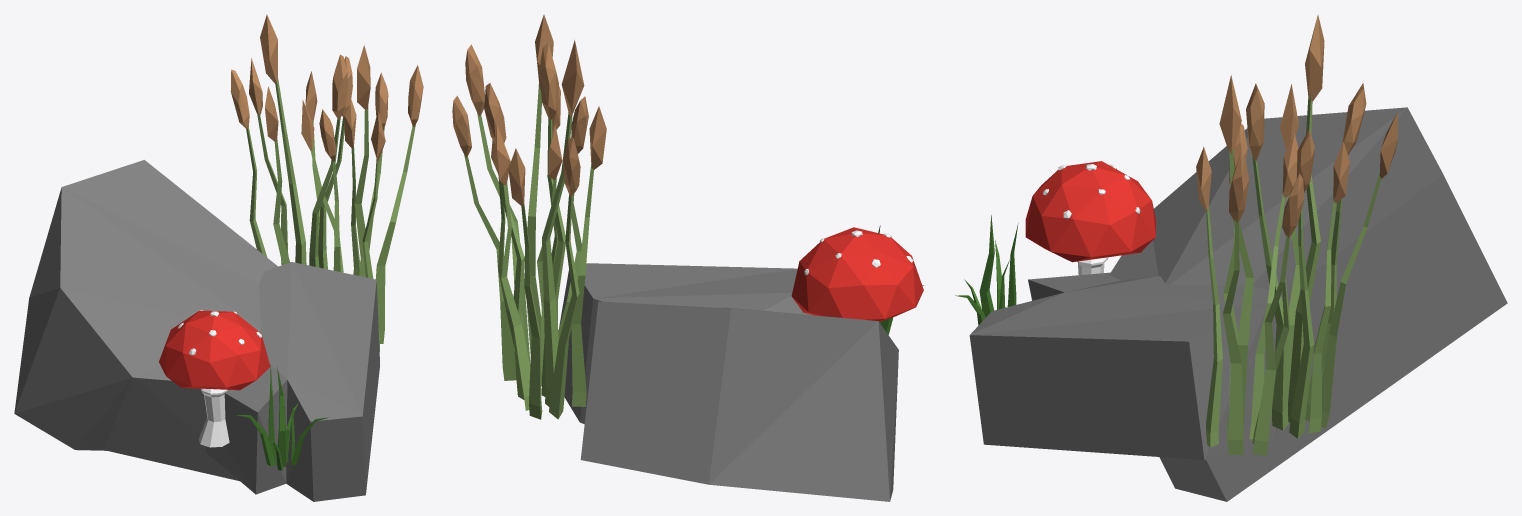
Rendered from rock-01.glb.
3 views of the same model, side by side, from view 1: azimuth 30°, elevation 25°; view 2: azimuth 150°, elevation 25°; view 3: azimuth 270°, elevation 25° (orthographic). The views are drawn at different scales.
Parts seen in each view (by area): view 1: Mushrooms_grass3; view 2: Mushrooms_grass3; view 3: Mushrooms_grass3.
Boxes of the visible parts, <box> form: Mushrooms_grass3: <box>14,14,423,501</box>; Mushrooms_grass3: <box>452,14,923,501</box>; Mushrooms_grass3: <box>955,14,1507,501</box>.
Bounding box in the file's own units: 2.22 × 2.21 × 2.28.
